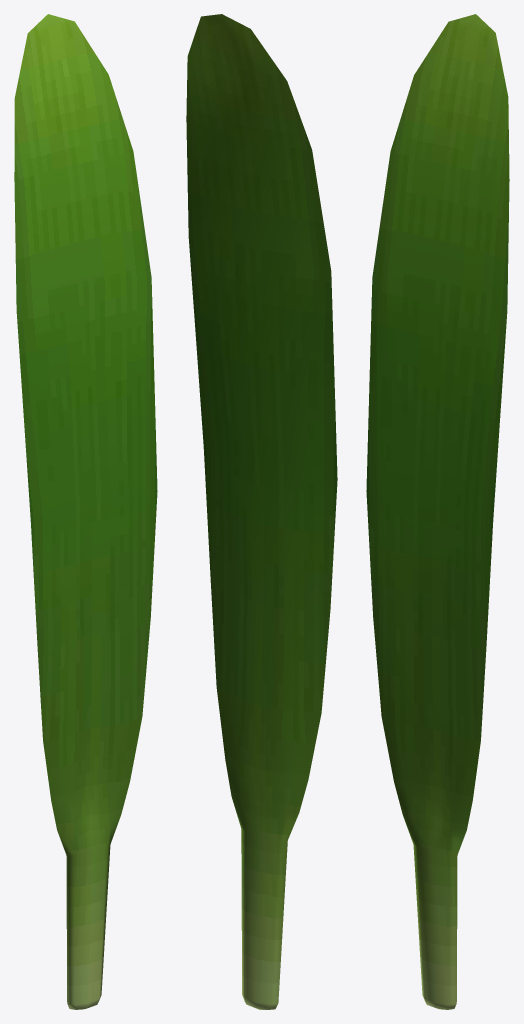
Rendered from F2_Item_Snack_Cat_Grass.dae.
The picture shows the model from 3 angles, left to right: view 1: azimuth 30°, elevation 25°; view 2: azimuth 150°, elevation 25°; view 3: azimuth 330°, elevation 25°; orthographic projection. The views are drawn at different scales.
Parts seen in each view (by area): view 1: _0_0_node; view 2: _0_0_node; view 3: _0_0_node.
Boxes of the visible parts, x1,y1,x2,y2 form: _0_0_node: [14, 14, 157, 1009]; _0_0_node: [186, 14, 337, 1009]; _0_0_node: [366, 14, 509, 1009].
Bounding box in the file's own units: 0.1871 × 1.28 × 0.1129.
1 material, 1 textured.
